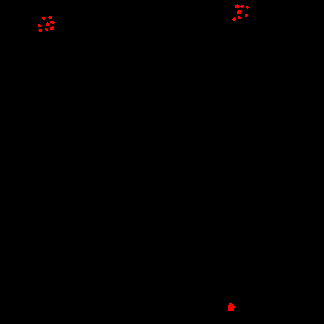Target: (228, 303, 235, 311), (237, 10, 242, 14), (235, 4, 239, 8), (232, 17, 236, 21), (50, 26, 54, 30), (50, 21, 55, 24), (240, 5, 244, 8), (48, 16, 52, 19), (46, 22, 49, 26), (38, 29, 42, 32), (246, 6, 249, 9), (245, 14, 248, 17), (238, 16, 241, 19), (42, 17, 45, 20), (38, 24, 41, 27), (45, 28, 48, 31)
